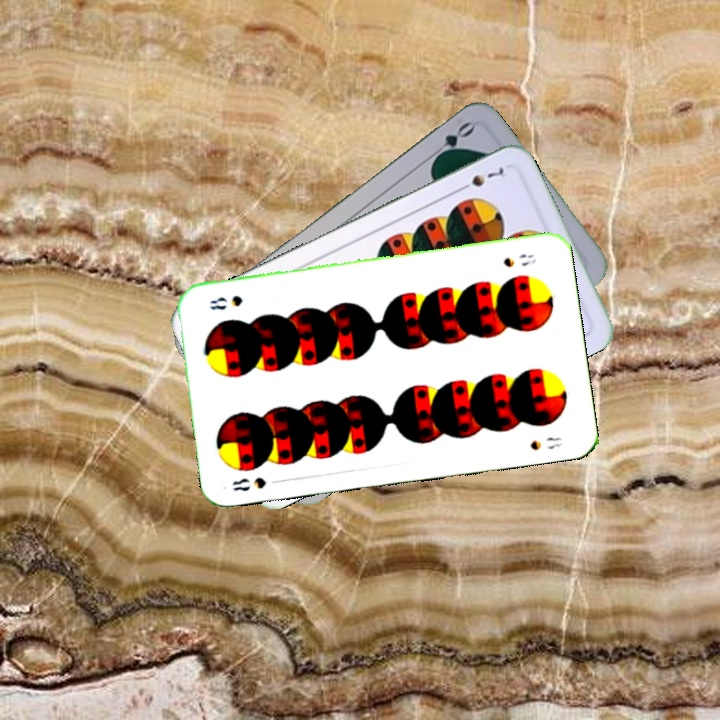GO: (425, 117, 477, 165)
S7: (454, 163, 508, 194)
S8: (228, 473, 269, 494), (499, 249, 538, 270)
